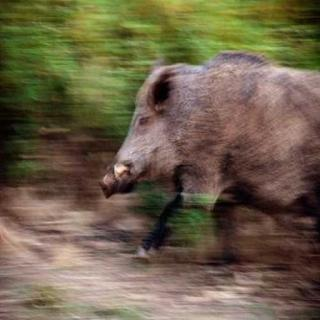Pig: (104, 33, 320, 270)
